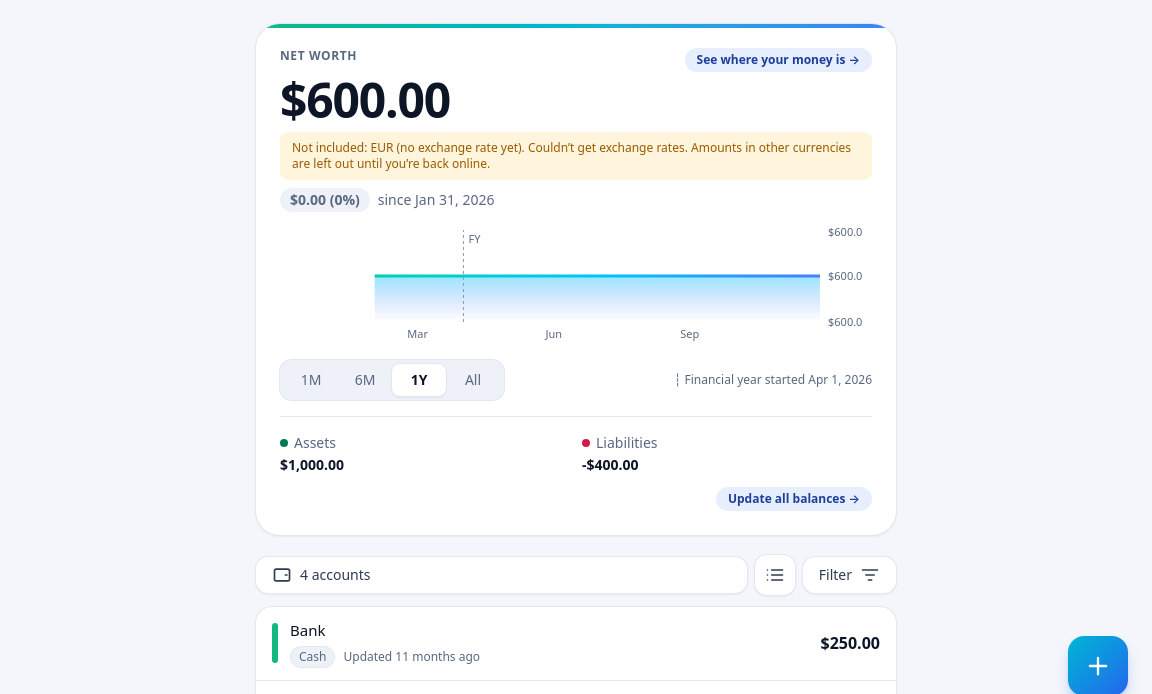
Test case: InsightsPage › opens from the start page and breaks down by tag
Click the link "See where your money is →": (778, 60) [685,48,872,72]
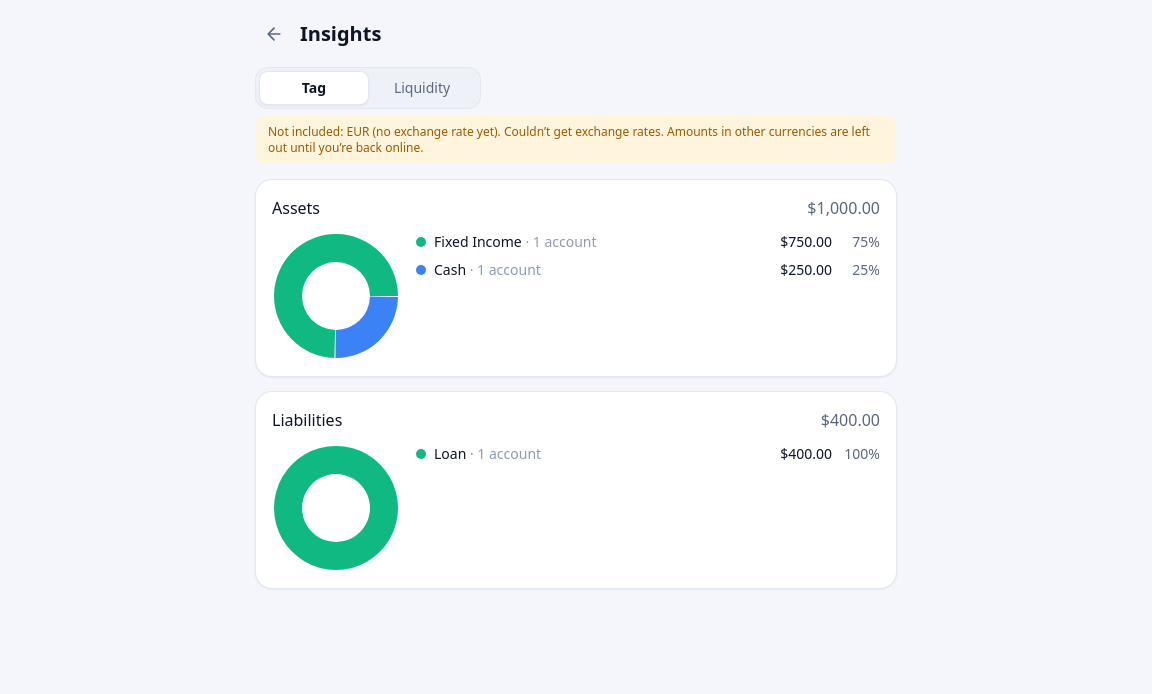
Expected: the heading "Insights" is shown, [300,20,381,48]
Expected: the radio button labelled "Tag" is checked, [260,72,368,104]
Expected: the element "Assets" shows "$1,000.00", [807,197,880,219]
